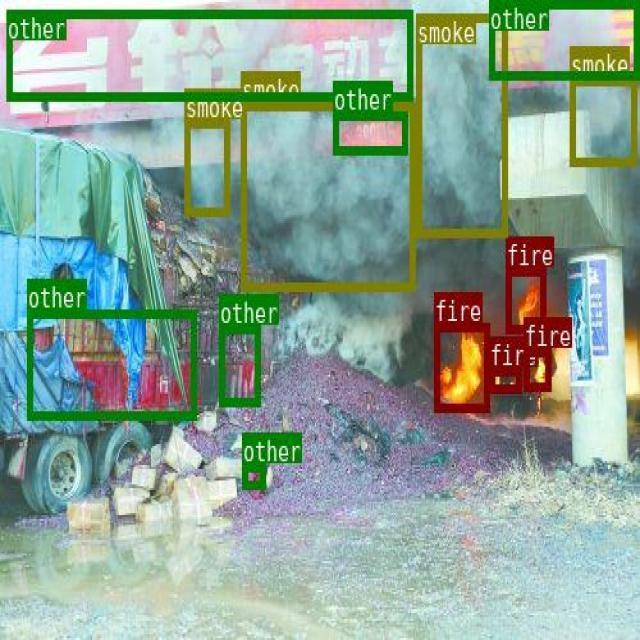fire: (433, 322, 489, 410), (505, 267, 545, 331), (522, 347, 550, 389), (488, 366, 521, 391)
smoke: (240, 101, 414, 289), (416, 13, 506, 236), (569, 75, 635, 164), (183, 118, 229, 215)
